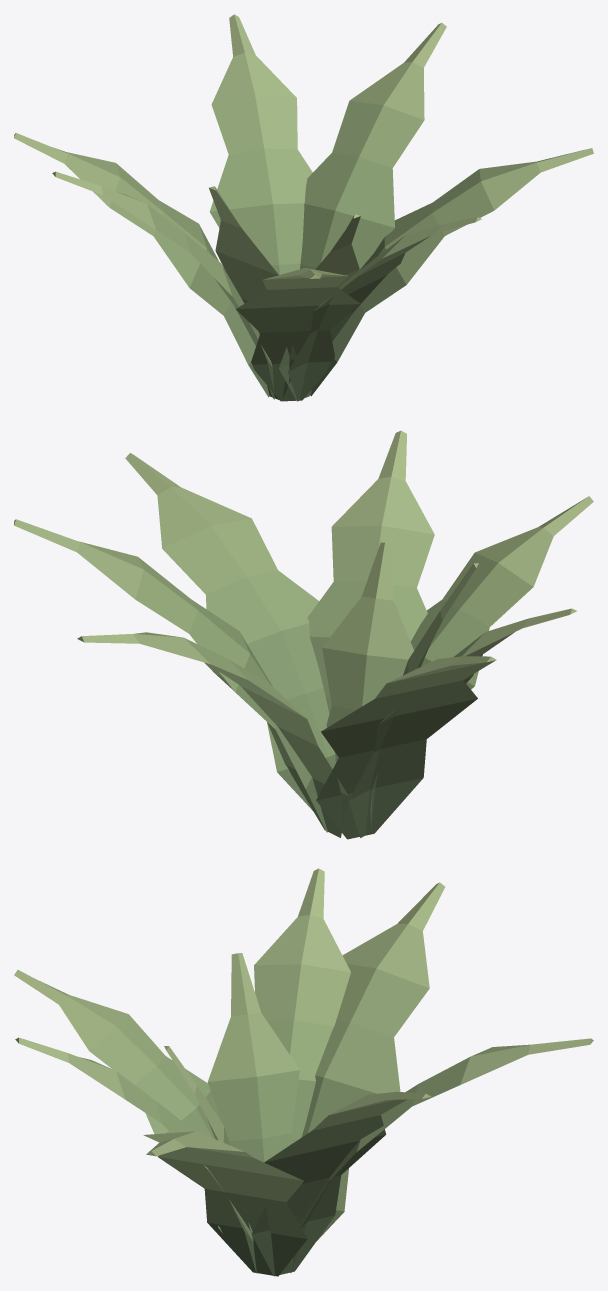
The model's file is Fern2_leaf.glb.
3 views of the same model, one above another, from view 1: azimuth 30°, elevation 25°; view 2: azimuth 150°, elevation 25°; view 3: azimuth 270°, elevation 25° (orthographic). The views are drawn at different scales.
Visible parts, largest first — view 1: Fern2_leaf; view 2: Fern2_leaf; view 3: Fern2_leaf.
Part boxes in pixels (<box>): Fern2_leaf: <box>14,14,593,401</box>; Fern2_leaf: <box>14,430,593,839</box>; Fern2_leaf: <box>14,868,593,1276</box>.
Bounding box in the file's own units: 3.18 × 1.73 × 3.13.
